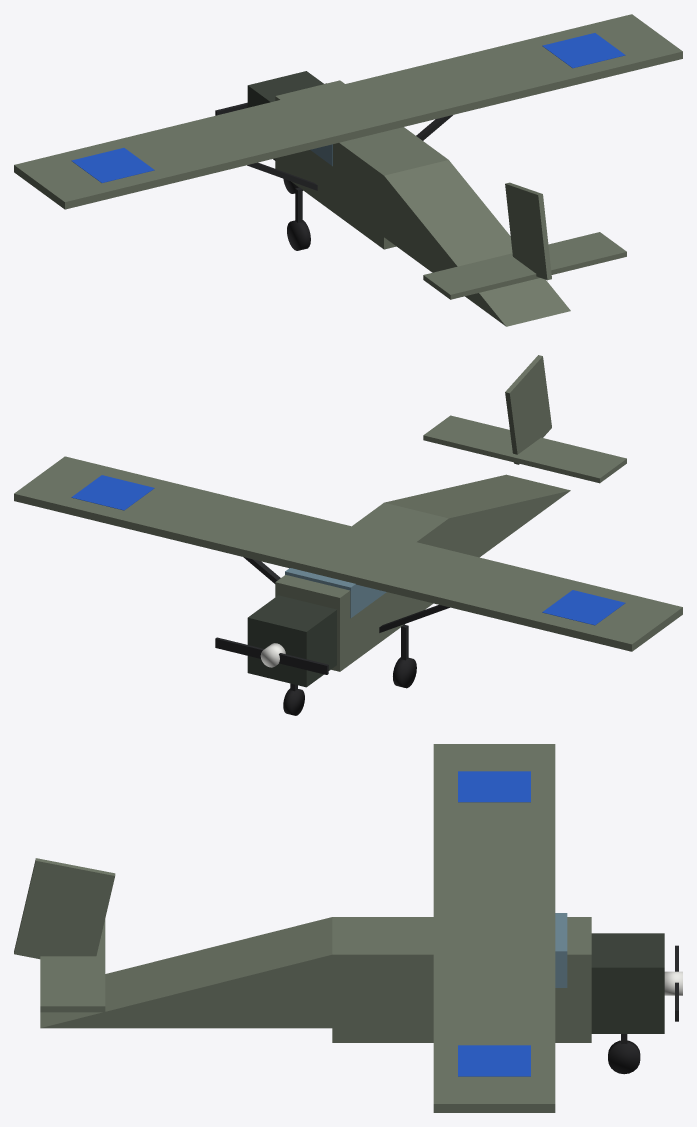
Rendered from Observer_Blue.fbx.
3 views of the same model, one above another, from view 1: azimuth 30°, elevation 25°; view 2: azimuth 150°, elevation 25°; view 3: azimuth 270°, elevation 25° (orthographic). The views are drawn at different scales.
Visible parts, largest first — view 1: Wing, TailCone, Fuselage, Stabilizer, Fin, WingMarkR, WingMarkL, Engine, MainGearL, StrutL; view 2: Wing, Fuselage, TailCone, Engine, Stabilizer, Fin, WingMarkL, WingMarkR, Windows, PropBlades, MainGearL; view 3: Wing, TailCone, Fuselage, Fin, Engine, Stabilizer, WingMarkL, WingMarkR, Windows, NoseGear.
Part boxes in pixels (x1,y1,x2,y2): Wing: (14,14,682,209); TailCone: (384,160,570,326); Fuselage: (275,80,448,249); Stabilizer: (423,232,626,299); Fin: (505,182,551,280); WingMarkR: (542,33,625,68); WingMarkL: (71,148,154,182); Engine: (247,71,323,160); MainGearL: (287,220,310,250); StrutL: (247,162,317,190); Wing: (14,456,682,651); Fuselage: (275,502,448,671); TailCone: (385,474,570,557); Engine: (247,595,336,687); Stabilizer: (423,415,626,483); Fin: (505,355,551,464); WingMarkL: (542,590,625,625); WingMarkR: (71,475,154,510); Windows: (285,568,386,618); PropBlades: (215,637,328,674); MainGearL: (393,657,416,688); Wing: (433,744,555,1112); TailCone: (40,917,332,1028); Fuselage: (332,917,591,1042); Fin: (14,858,115,959); Engine: (591,933,664,1033); Stabilizer: (40,919,105,1012); WingMarkL: (458,771,530,802); WingMarkR: (458,1045,530,1076); Windows: (555,913,567,987); NoseGear: (608,1040,640,1074).
Bounding box in the file's own units: 1050 × 825 × 291.
